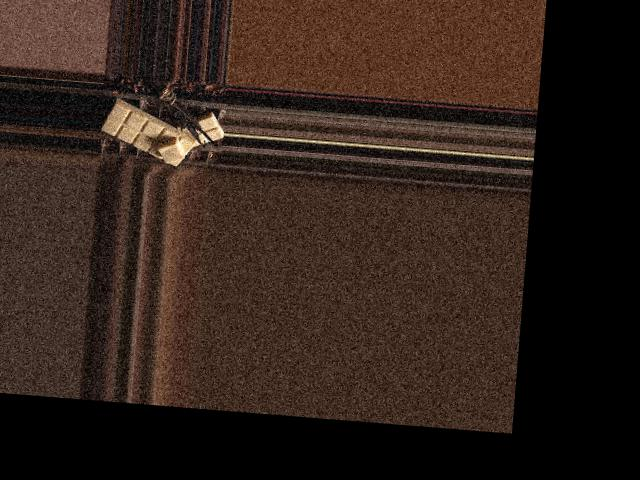chocolate: (99, 99, 201, 167)
